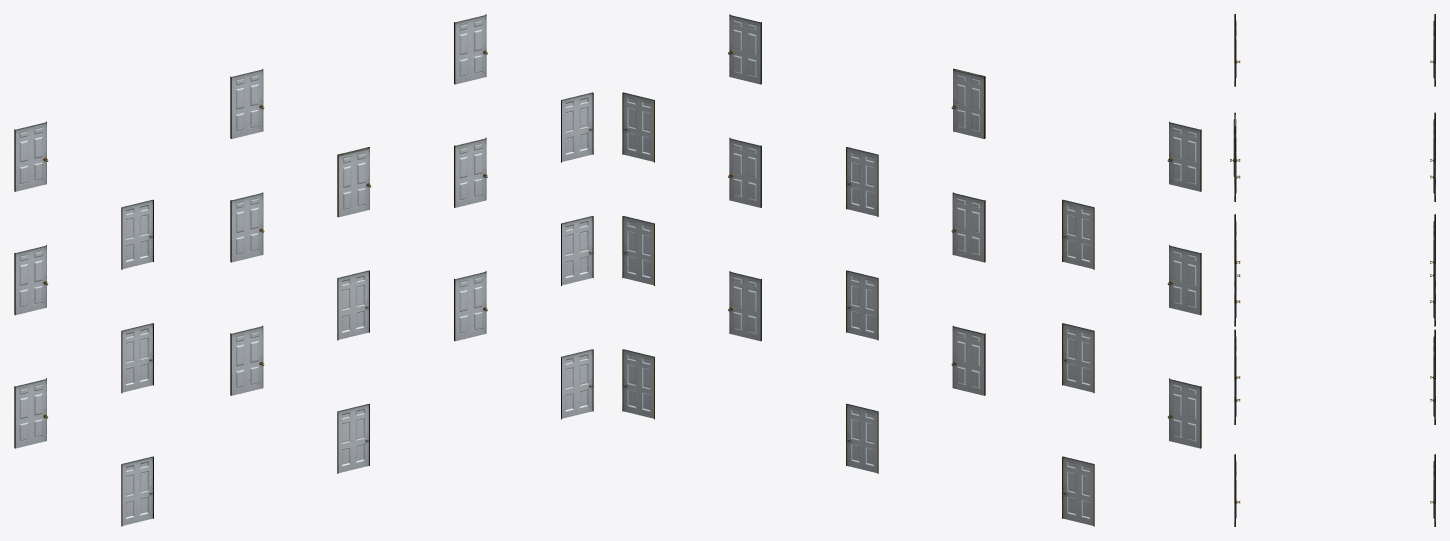
Rendered from PUERTAS DE MADERA.fbx.
The picture shows the model from 3 angles, left to right: view 1: azimuth 30°, elevation 25°; view 2: azimuth 150°, elevation 25°; view 3: azimuth 270°, elevation 25°; orthographic projection. The views are drawn at different scales.
Visible parts, largest first — view 1: FUERTAS FALSA, Puerta.002; view 2: FUERTAS FALSA, Puerta.002; view 3: FUERTAS FALSA, Puerta.002.
Boxes of the visible parts, x1,y1,x2,y2 form: FUERTAS FALSA: (14, 14, 593, 526); Puerta.002: (337, 147, 371, 217); FUERTAS FALSA: (622, 14, 1201, 526); Puerta.002: (951, 68, 985, 138); FUERTAS FALSA: (1234, 14, 1435, 526); Puerta.002: (1230, 112, 1240, 184).
Size of the model in its own units: 1839 by 1189 by 745.
Materials: 1 (1 with a texture image).
